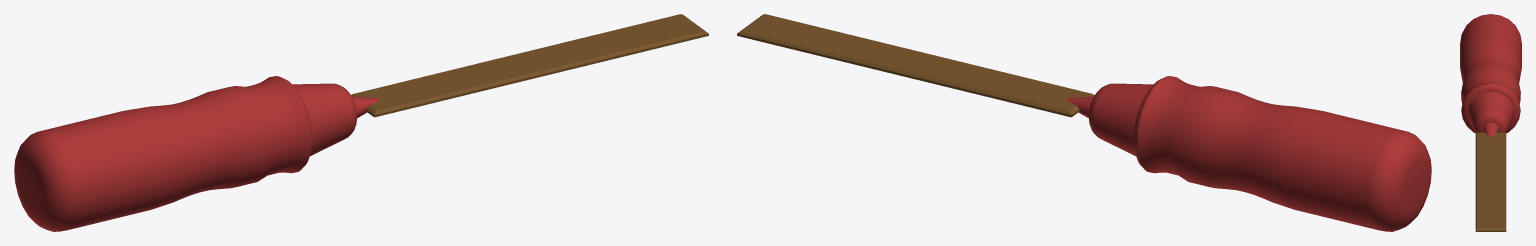
Rendered from Chisel.fbx.
3 views of the same model, side by side, from view 1: azimuth 30°, elevation 25°; view 2: azimuth 150°, elevation 25°; view 3: azimuth 270°, elevation 25° (orthographic). The views are drawn at different scales.
Visible parts, largest first — view 1: HOLDEER, chisel; view 2: HOLDEER, chisel; view 3: HOLDEER, chisel.
Boxes of the visible parts, box(x1,y1,x2,y2) form: HOLDEER: box(14, 76, 379, 231); chisel: box(351, 14, 708, 117); HOLDEER: box(1067, 76, 1431, 231); chisel: box(737, 14, 1094, 117); HOLDEER: box(1460, 14, 1521, 136); chisel: box(1475, 132, 1506, 231).
Size of the model in its own units: 14.82 by 2 by 2.
